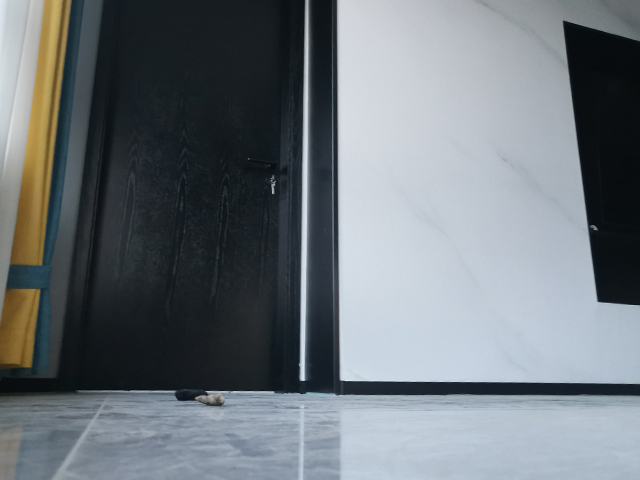curtain: (1, 1, 89, 379)
feces: (172, 387, 226, 408)
